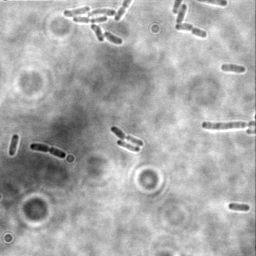Dividing: (109, 125, 145, 147), (28, 142, 67, 159), (174, 21, 208, 39)
Microcolony: (63, 1, 133, 47)
Rod: (200, 119, 249, 131), (116, 138, 141, 154), (7, 132, 20, 158), (220, 62, 247, 74), (175, 4, 189, 26), (228, 201, 251, 213)
